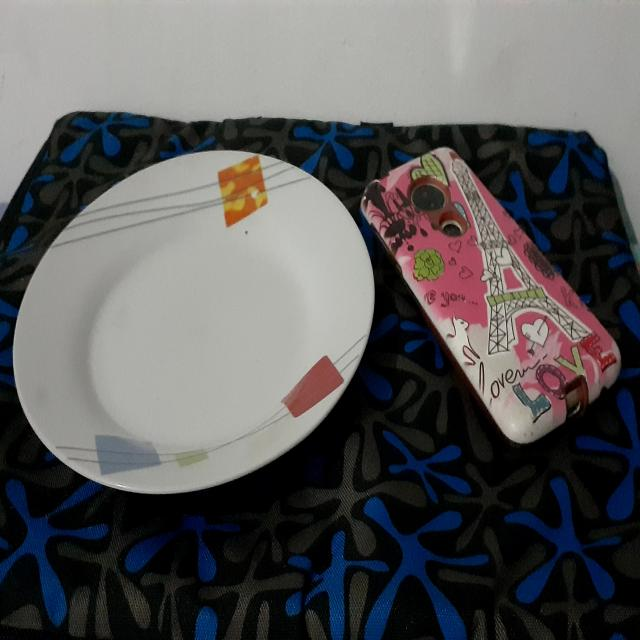non-organic waste: (12, 156, 376, 567)
